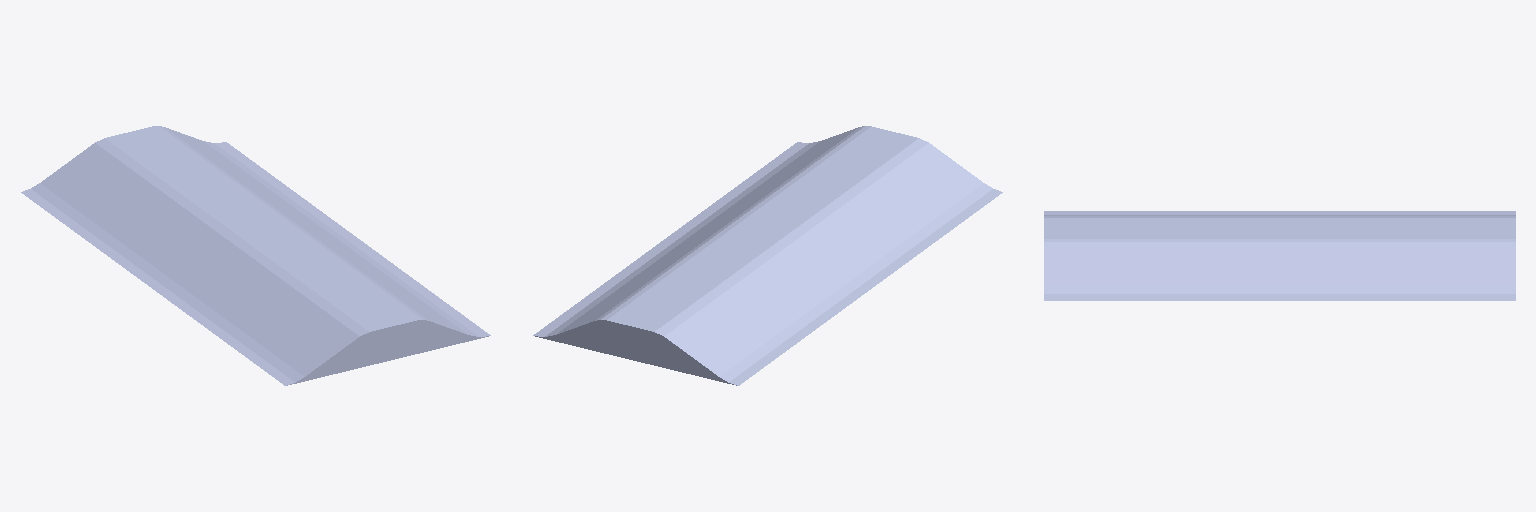
URDF robot description (slope):
<?xml version="1.0"?>
<robot
  name="slope">
  <link
    name="slope">
    <inertial>
      <origin
        xyz="30.62 -6.06938101382426E-16 2.8821"
        rpy="0 0 0" />
      <mass
        value="18575000" />
      <inertia
        ixx="15548399405.3393"
        ixy="-9.69870109401819E-08"
        ixz="12794682.1006751"
        iyy="1470538291.32314"
        iyz="9.08893288334038E-07"
        izz="16880507047.6922" />
    </inertial>
    <visual>
      <origin
        xyz="0 0 0"
        rpy="-1.5707963267949 0 0" />
      <geometry>
        <mesh
          filename="package://spido_description/meshes/slope.STL" />
      </geometry>
      <material
        name="">
        <color
          rgba="0.79216 0.81961 0.93333 1" />
      </material>
    </visual>
    <collision>
      <origin
        xyz="0 0 0"
        rpy="-1.5707963267949 0 0" />
      <geometry>
        <mesh
          filename="package://spido_description/meshes/slope.STL" />
      </geometry>
    </collision>
  </link>
</robot>

--- Render facts (derived) ---
3 views of the same robot in one strip: view 1: azimuth 30°, elevation 25°; view 2: azimuth 150°, elevation 25°; view 3: azimuth 270°, elevation 25° (orthographic).
Model slope with 1 links and 0 joints (none), rooted at slope, posed every joint at zero.
Links seen in each view (by area): view 1: slope; view 2: slope; view 3: slope.
Link boxes in pixels (box(x1,y1,x2,y2)): slope: box(21, 126, 490, 385); slope: box(533, 126, 1002, 385); slope: box(1044, 211, 1515, 300).
Bounding box of the posed robot: 44.9 × 100 × 7 m (x, y, z).
Meshes: 1 distinct files referenced, 1 mesh visuals loaded (1 binary STL).